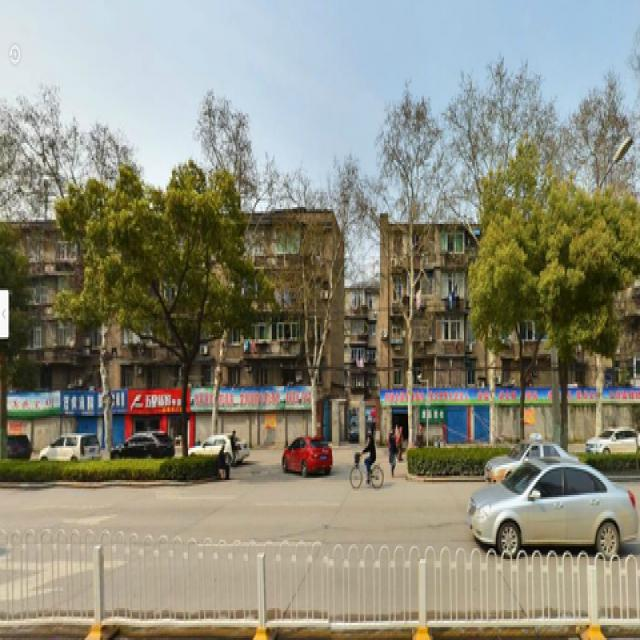cinn: (71, 164, 252, 448)
